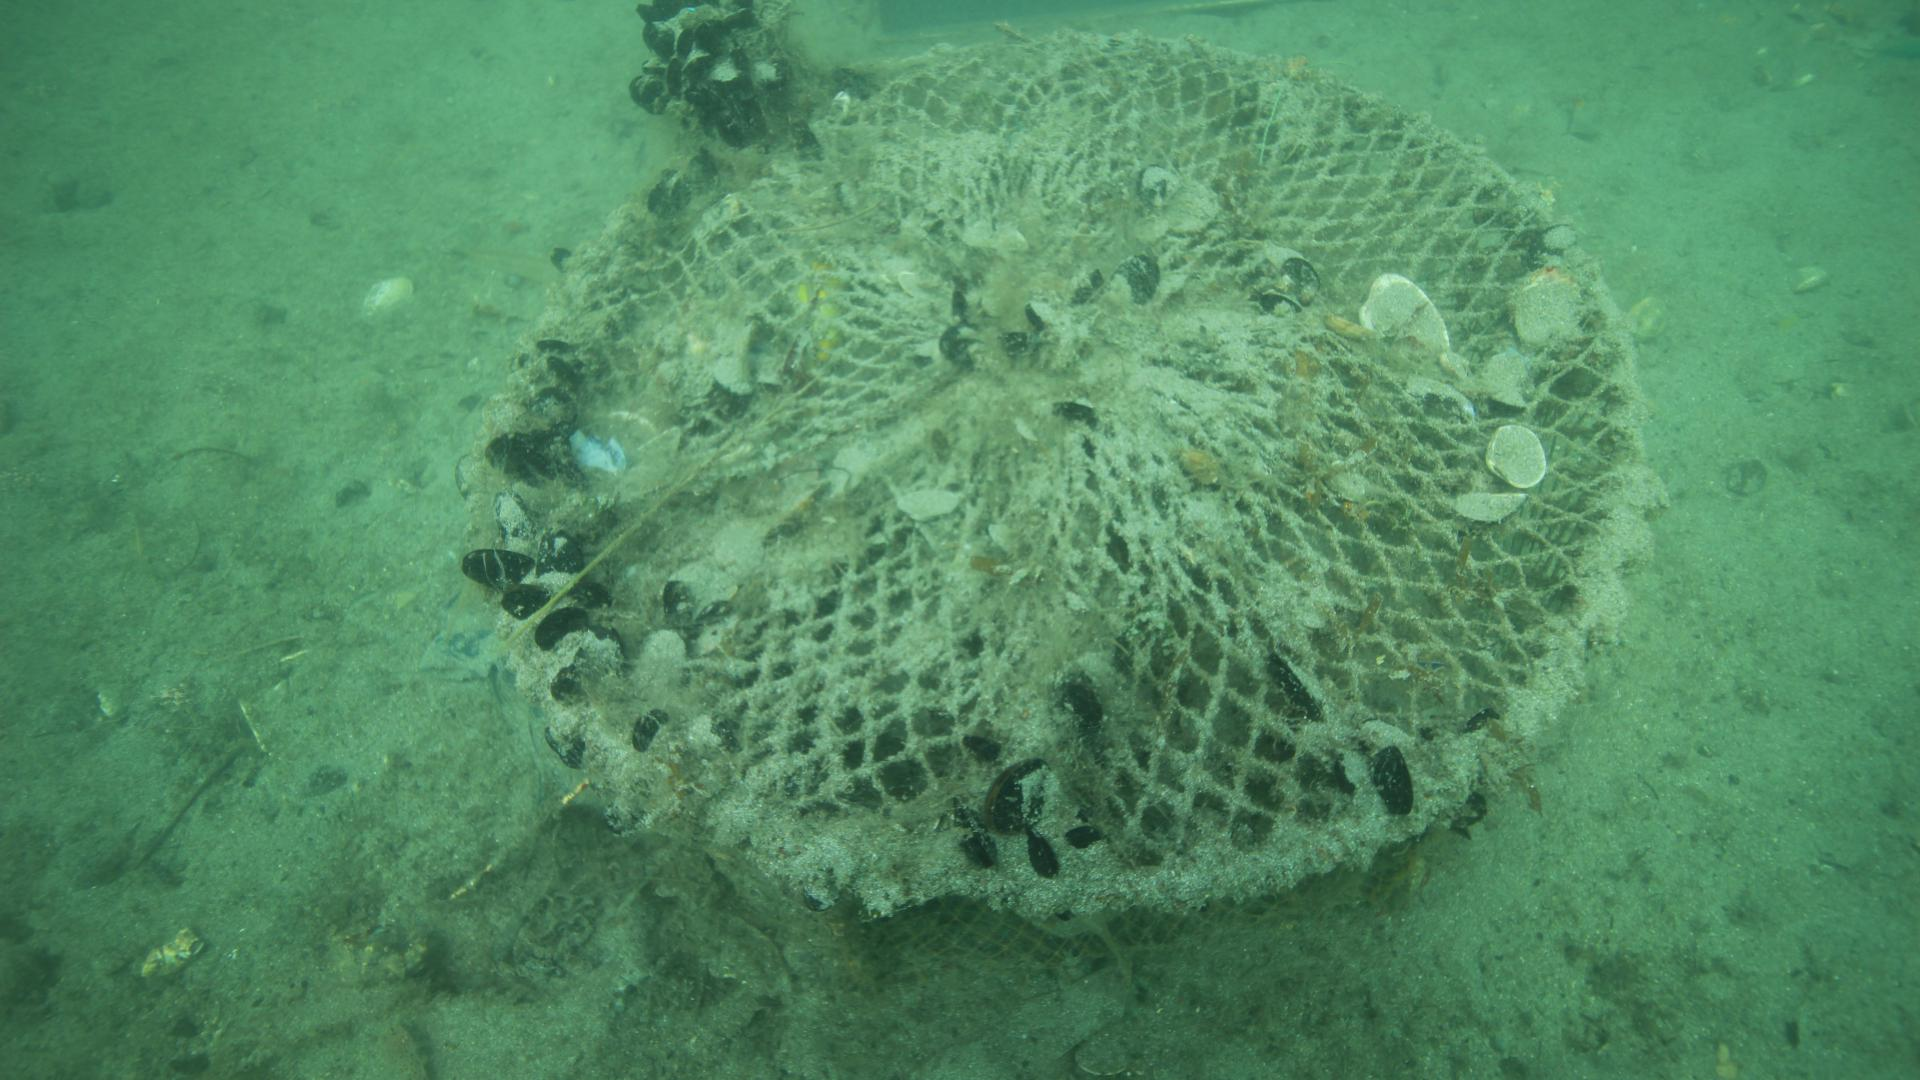circular fish trap: (493, 32, 1644, 916)
